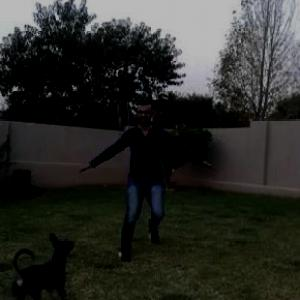land: (77, 74, 228, 275)
